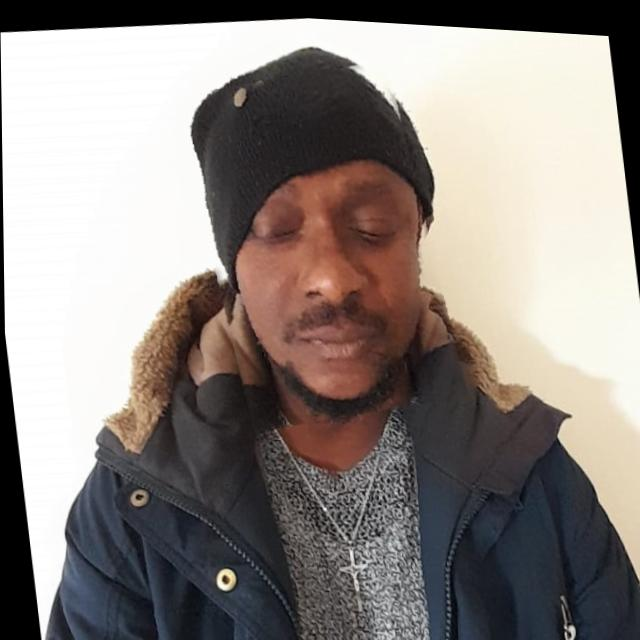sad: (179, 48, 459, 436)
